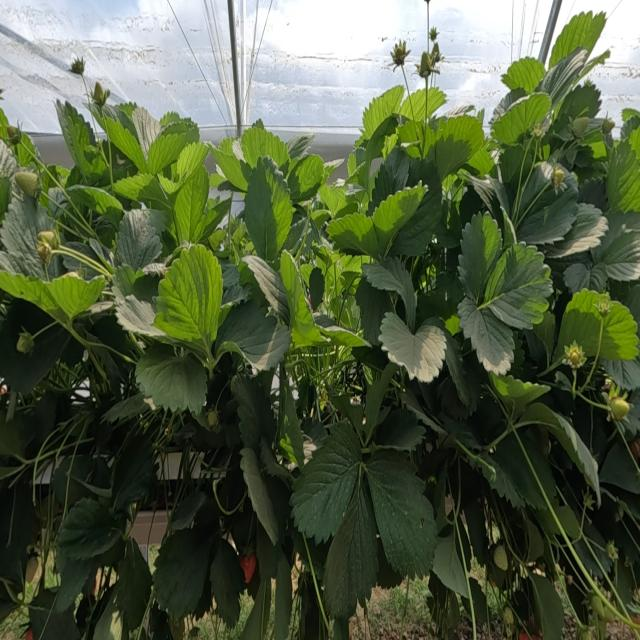Leaves: (365, 448, 436, 578), (291, 423, 360, 541), (323, 478, 379, 620), (516, 402, 599, 492), (153, 508, 218, 619), (156, 247, 223, 350), (1, 310, 68, 394), (486, 245, 551, 329), (513, 163, 578, 245), (1, 273, 103, 325), (215, 300, 289, 370), (390, 159, 442, 256), (244, 159, 292, 262), (136, 342, 207, 411), (494, 433, 556, 510), (379, 315, 449, 381), (170, 167, 229, 244), (426, 105, 485, 180), (1, 194, 53, 279), (280, 251, 324, 348), (458, 299, 514, 374), (256, 475, 294, 583), (57, 499, 122, 561), (0, 482, 38, 587), (457, 213, 501, 301), (518, 184, 578, 244), (241, 448, 278, 543), (115, 537, 151, 632), (372, 183, 426, 246), (534, 46, 587, 110), (364, 257, 415, 322), (112, 434, 154, 512), (210, 537, 246, 627), (547, 203, 607, 257), (548, 11, 605, 67), (593, 211, 639, 280), (234, 376, 275, 453), (116, 208, 165, 271), (55, 100, 94, 177), (492, 94, 550, 144), (157, 142, 209, 196), (173, 167, 208, 242), (442, 326, 474, 408), (356, 276, 394, 344), (327, 213, 382, 258), (115, 173, 171, 217), (433, 529, 469, 597), (51, 455, 93, 513), (364, 363, 398, 434), (598, 301, 638, 360), (528, 572, 563, 639), (115, 295, 167, 340), (244, 256, 285, 313), (372, 148, 409, 211), (483, 463, 537, 506), (606, 141, 639, 211), (67, 185, 123, 226), (104, 119, 147, 172), (362, 86, 403, 140), (374, 408, 423, 451), (575, 521, 611, 579), (53, 556, 90, 612), (401, 390, 447, 434), (313, 312, 369, 347), (600, 443, 639, 493), (242, 124, 287, 167), (148, 129, 191, 174), (493, 375, 549, 408), (240, 580, 271, 639), (560, 311, 601, 355), (337, 254, 370, 306), (288, 154, 323, 203), (525, 312, 555, 369), (538, 500, 580, 540), (559, 81, 601, 120), (212, 145, 247, 191), (274, 551, 292, 639), (168, 491, 206, 532), (502, 57, 544, 93), (93, 599, 129, 639), (104, 392, 150, 421), (500, 144, 533, 182), (0, 411, 27, 457), (41, 609, 80, 639), (604, 359, 639, 389), (318, 184, 347, 217), (303, 421, 326, 462), (470, 577, 487, 625), (402, 89, 428, 119), (88, 457, 110, 488), (287, 135, 315, 158), (222, 283, 250, 306), (279, 433, 297, 464), (221, 263, 240, 289)
Strawberries: (417, 50, 442, 80), (14, 172, 39, 198), (391, 41, 410, 68), (240, 553, 256, 583), (609, 397, 630, 419), (25, 557, 40, 583), (572, 117, 589, 139), (493, 545, 507, 570), (591, 596, 606, 619), (568, 346, 583, 367), (37, 241, 51, 263), (17, 334, 33, 351), (606, 540, 618, 562), (601, 119, 614, 136), (553, 167, 563, 187), (208, 410, 217, 427)
